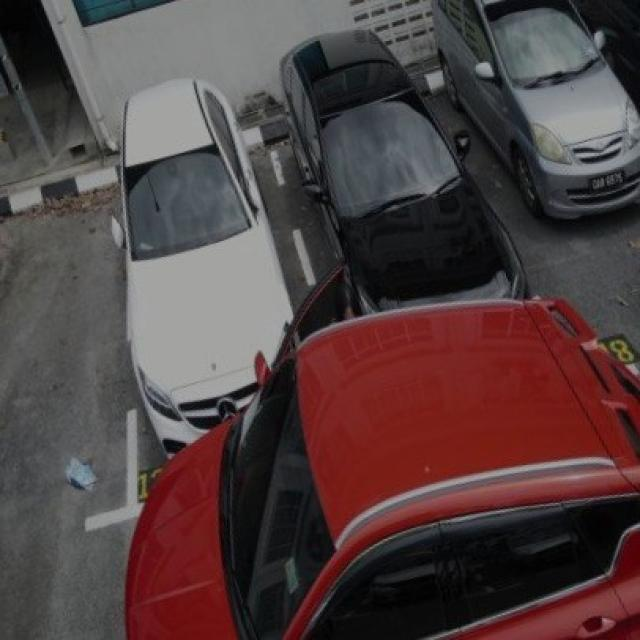Legalparking: (284, 33, 528, 309), (113, 80, 290, 445), (437, 0, 638, 219)
illegalparking: (126, 268, 638, 638)
